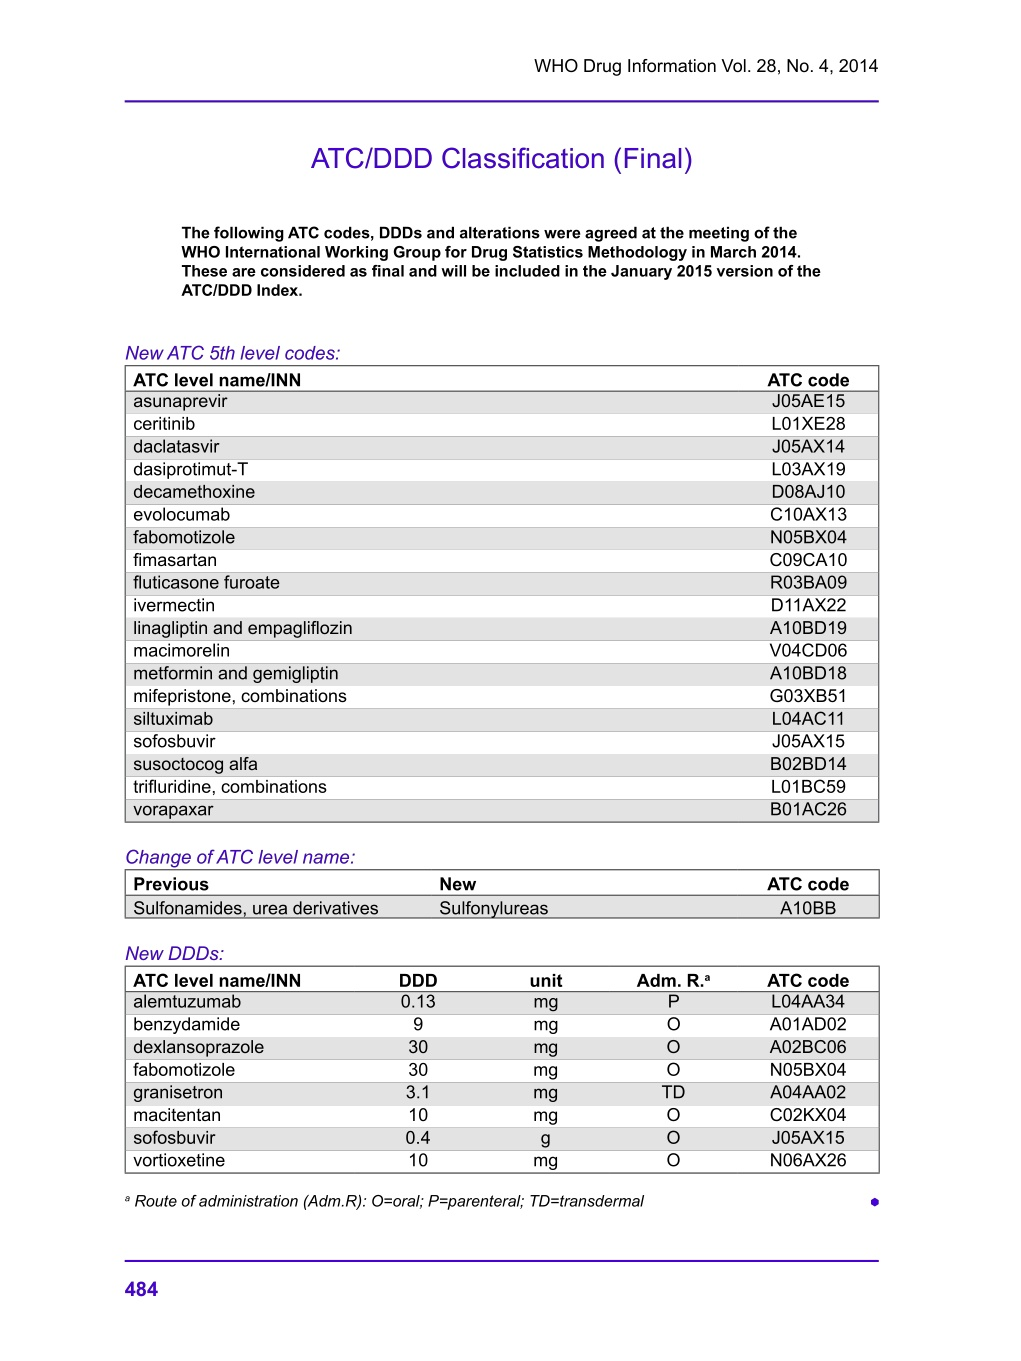partial_lined: (124, 364, 881, 824), (123, 963, 881, 1174), (123, 868, 881, 919)
